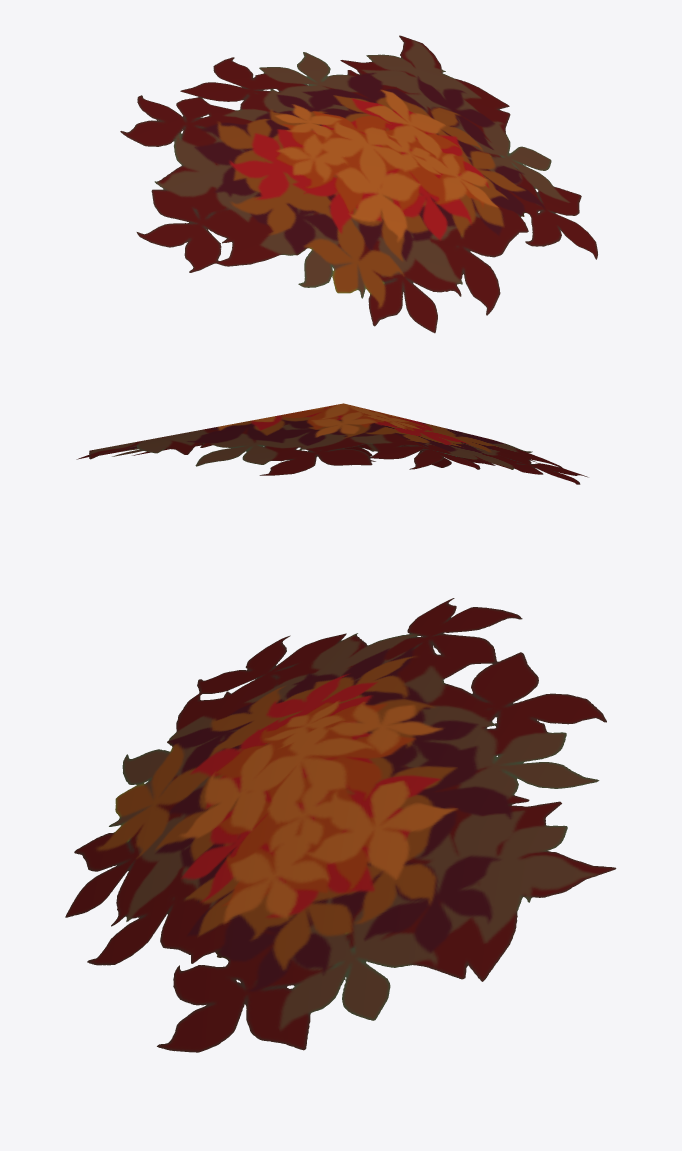
3 views of the same model, one above another, from view 1: azimuth 30°, elevation 25°; view 2: azimuth 150°, elevation 25°; view 3: azimuth 270°, elevation 25° (orthographic). The views are drawn at different scales.
Parts seen in each view (by area): view 1: Plane1011; view 2: Plane1011; view 3: Plane1011.
Boxes of the visible parts, <box> form: Plane1011: <box>120,35,597,333</box>; Plane1011: <box>76,403,588,484</box>; Plane1011: <box>65,598,616,1052</box>.
Bounding box in the file's own units: 0.3094 × 0.1209 × 0.2555.
